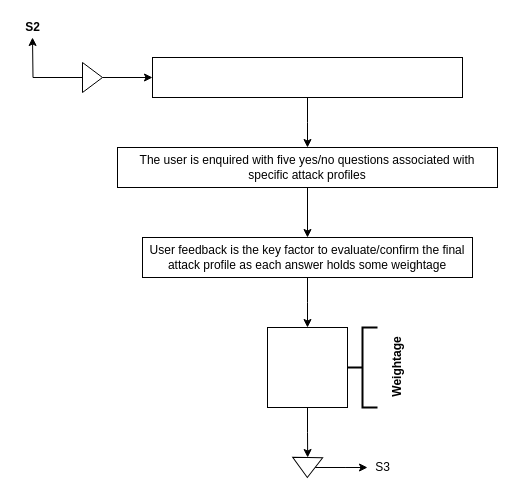
The diagram is 515 pixels wide and 495 high, and some of its shapes have lost their labels. Each missing label, with the box of its shape:
The follow-up questionnaire set of Attack profiles are displayed: (152, 56, 462, 98)
YES: 2 NO: 0 MAYBE: 1: (266, 326, 348, 408)
